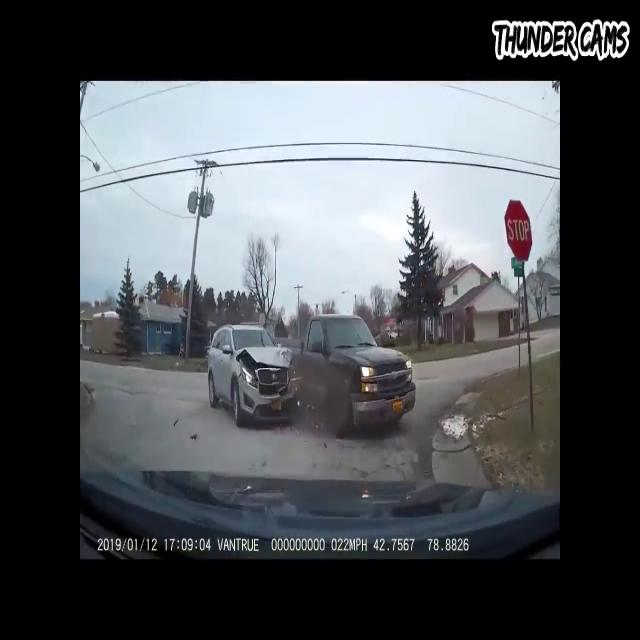accident: (205, 310, 424, 446)
